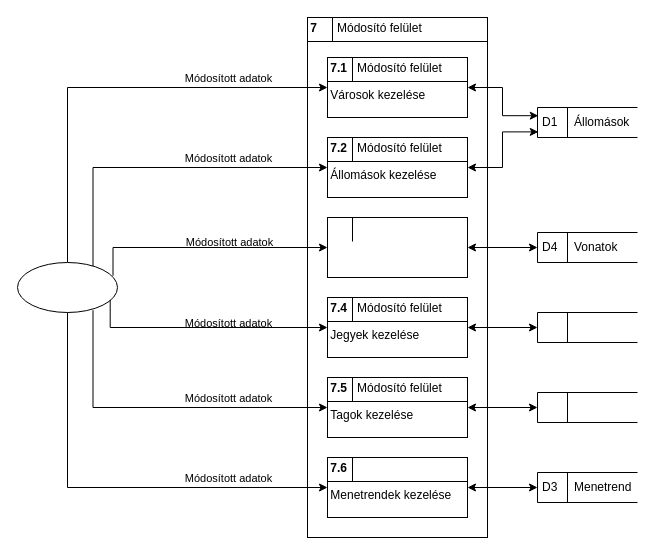
Image size: 655x555. Some labels were removed from this diagram. Here are the shapes that lost their labels. From the top down, the centre of each, then its label:
At point 397,247: "7.3 Módosító felület Vonatok kezelése".
At point 67,287: "Admin".
At point 587,327: "D5 Jegyek".
At point 587,407: "D2 Tagok".
